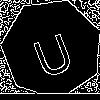U: (26, 24, 77, 80)
